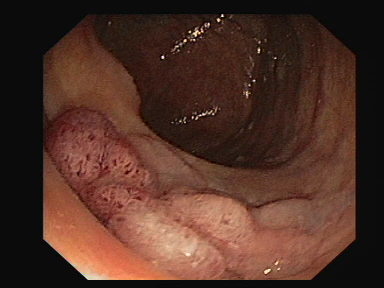polyp: (52, 84, 333, 279)
